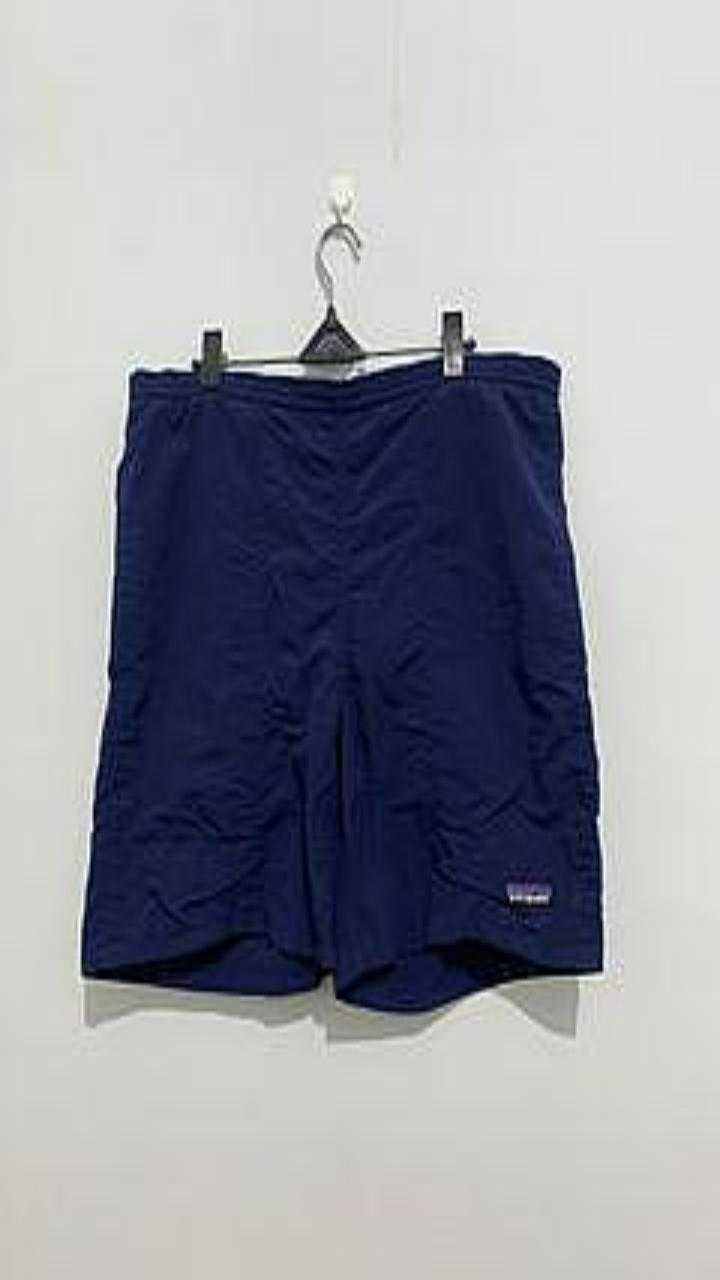Shorts: (82, 352, 602, 1011)
